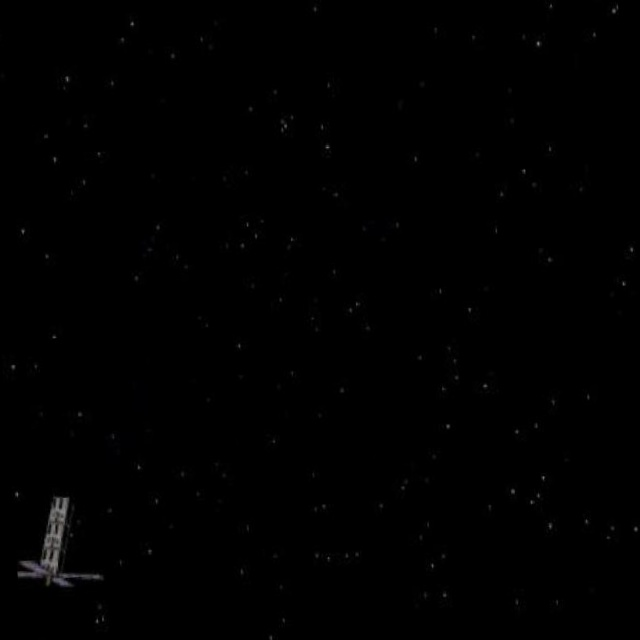medium_debris: (11, 481, 114, 606)
